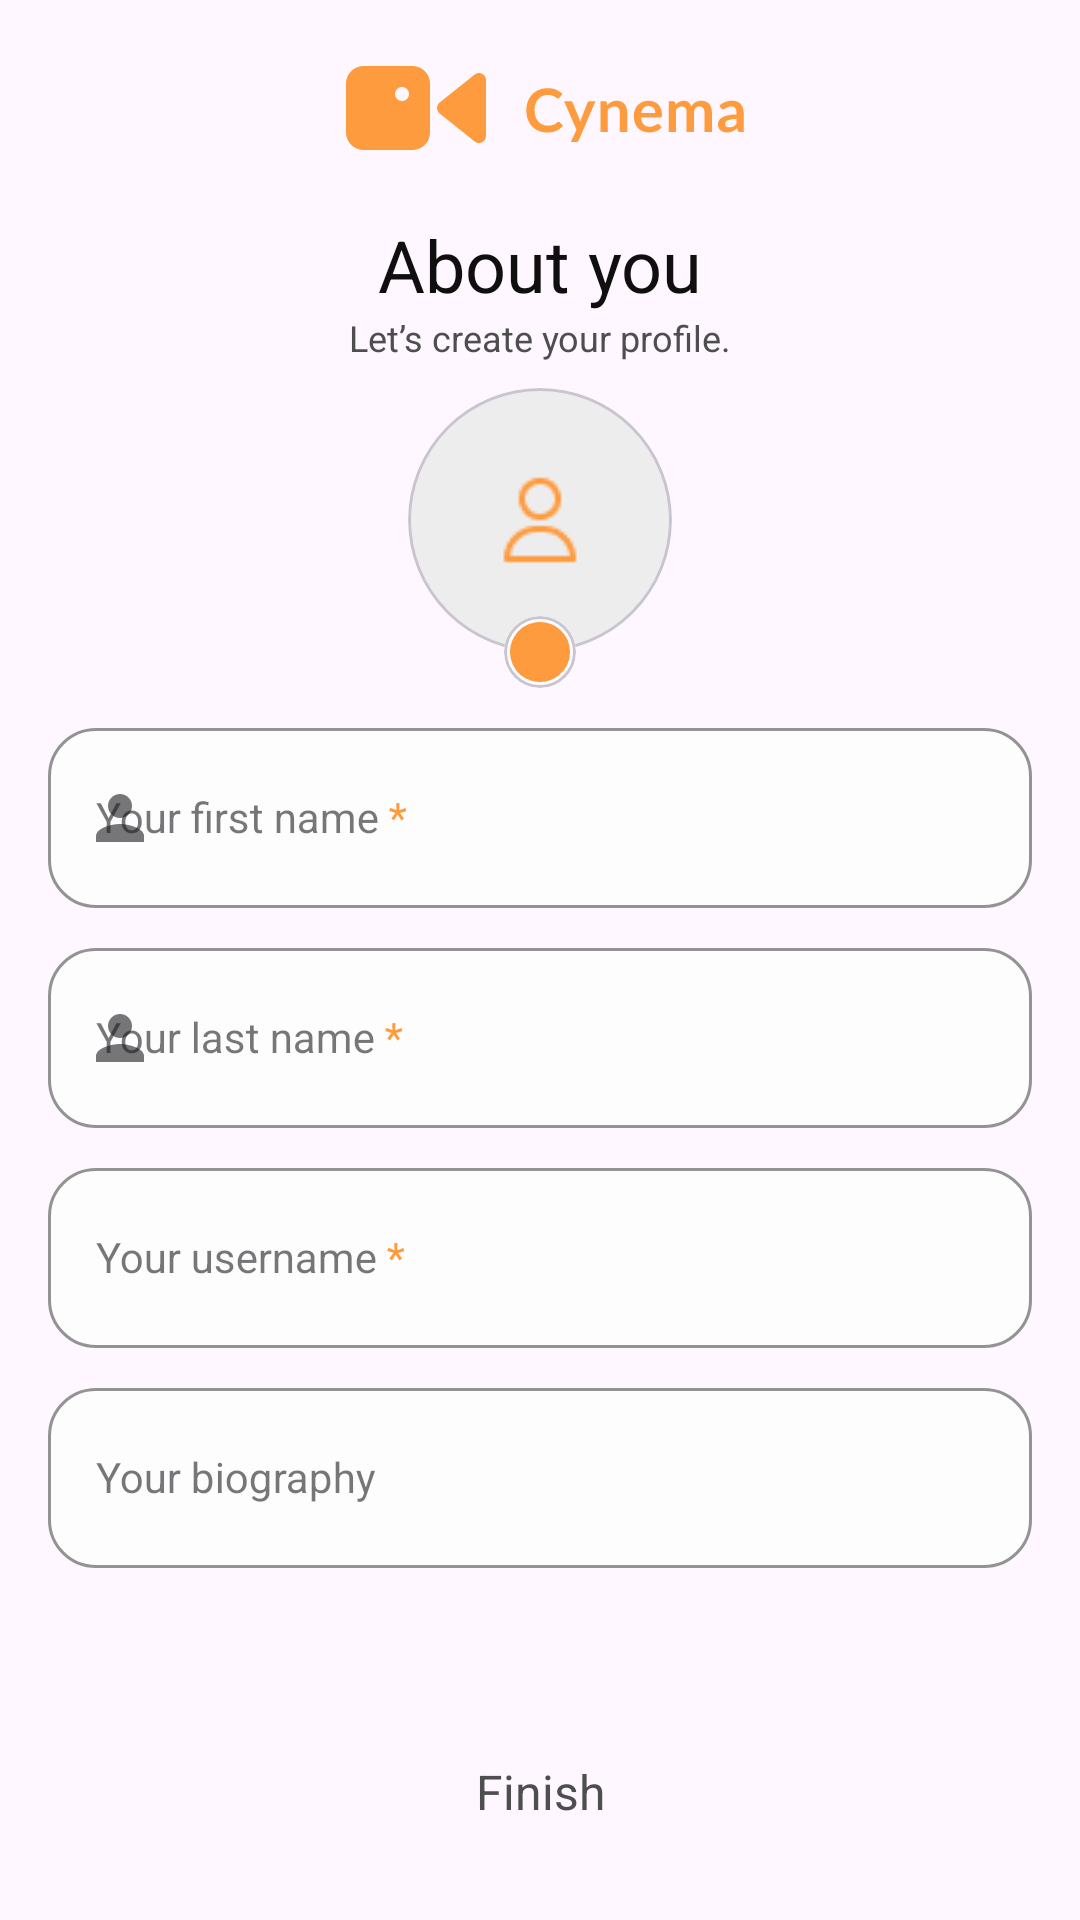

Where to tap for icons on this 1080×1920 app screen, as (x=x, y=y):
pic profile picture: (x=540, y=520)
